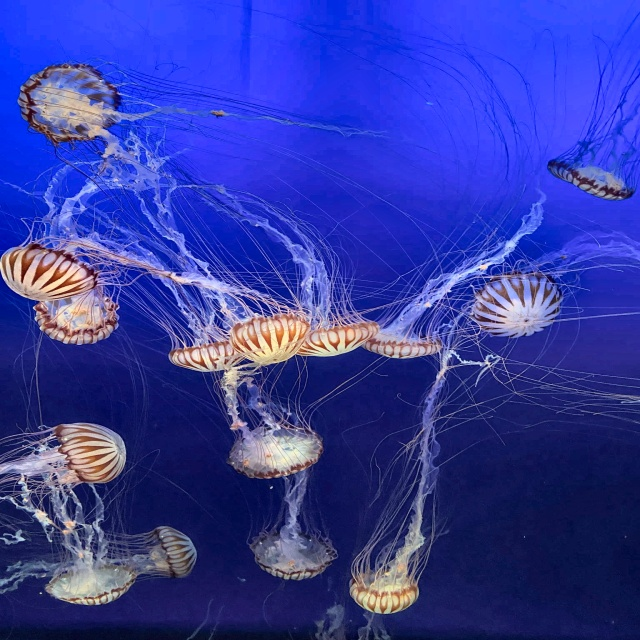jellyfish: (22, 63, 122, 141), (45, 414, 136, 488), (470, 273, 559, 339), (222, 422, 326, 478), (5, 240, 97, 299), (542, 157, 638, 208), (31, 291, 120, 343), (46, 565, 139, 608), (252, 532, 338, 578), (230, 314, 306, 366), (287, 319, 377, 359), (143, 522, 199, 577), (350, 573, 419, 616), (161, 339, 245, 372), (365, 331, 440, 360)
